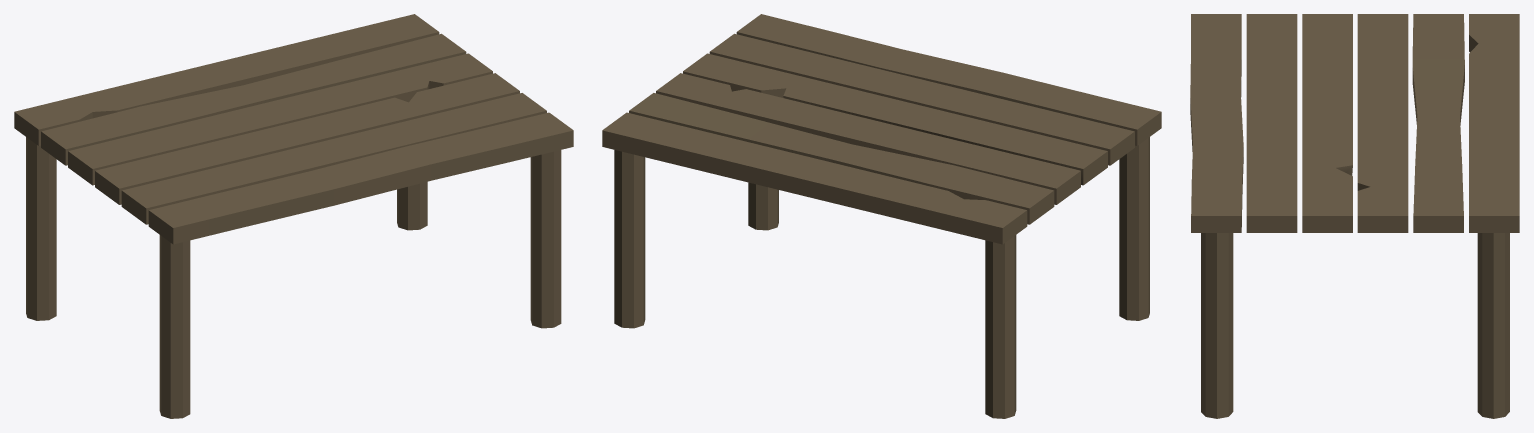
The model's file is Table.fbx.
3 renders of one model, left to right at view 1: azimuth 30°, elevation 25°; view 2: azimuth 150°, elevation 25°; view 3: azimuth 270°, elevation 25°, orthographic. The views are drawn at different scales.
Parts seen in each view (by area): view 1: Cylinder; view 2: Cylinder; view 3: Cylinder.
Part boxes in pixels (left/top/right/bottom): Cylinder: left=14, top=14, right=573, bottom=418; Cylinder: left=602, top=14, right=1161, bottom=418; Cylinder: left=1190, top=14, right=1519, bottom=418.
Size of the model in its own units: 697 by 328 by 480.
